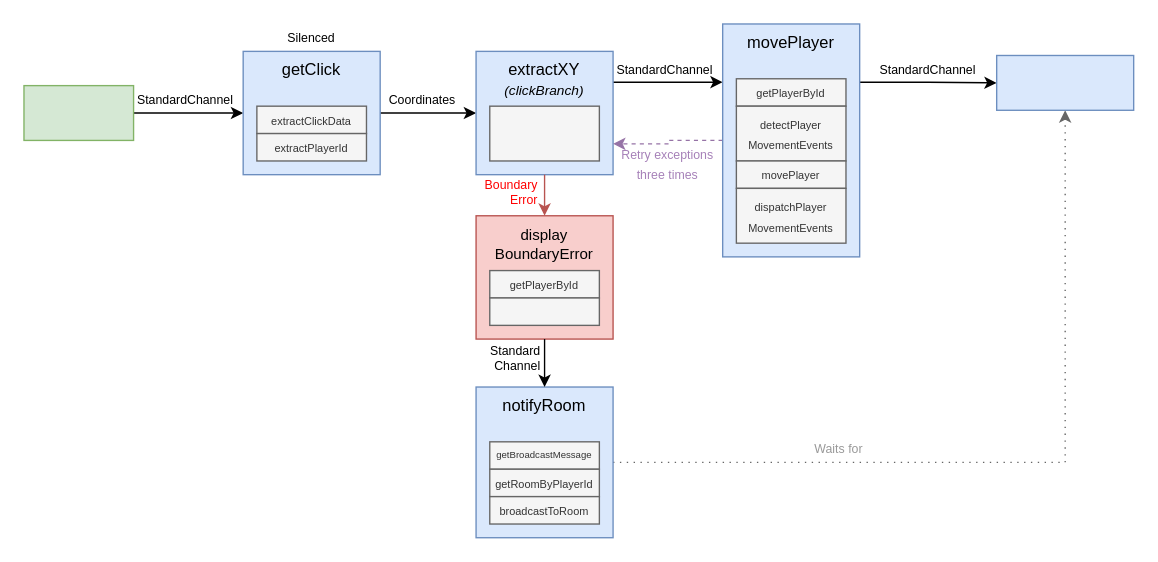
Image size: 1158x562. Some labels were removed from this diagram. Here are the shapes that lost their labels. From the top down, the centre of each, then its label:
At pixel 1064 82: "Milestone (move)".
At pixel 78 112: "GET /click".
At pixel 543 133: "getXYCoordsFrom ClickData".
At pixel 543 311: "sendBoundaryError".
